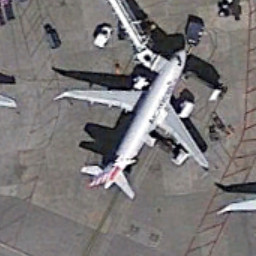Airplane: (48, 26, 216, 203)
